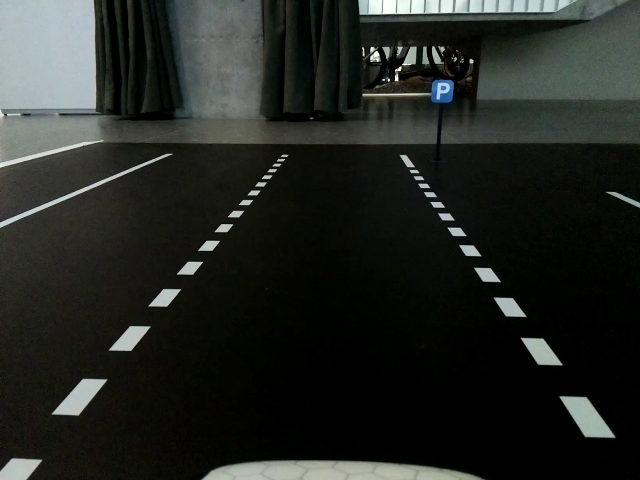park: (431, 81, 453, 103)
